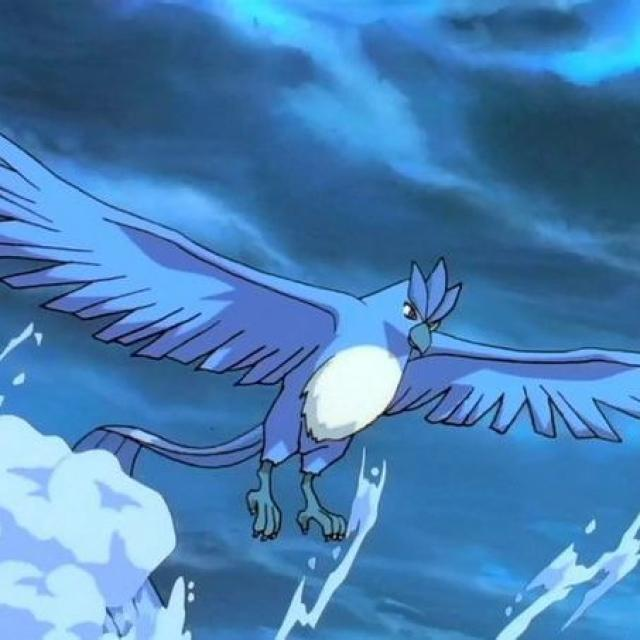Articuno: (153, 250, 531, 480)
